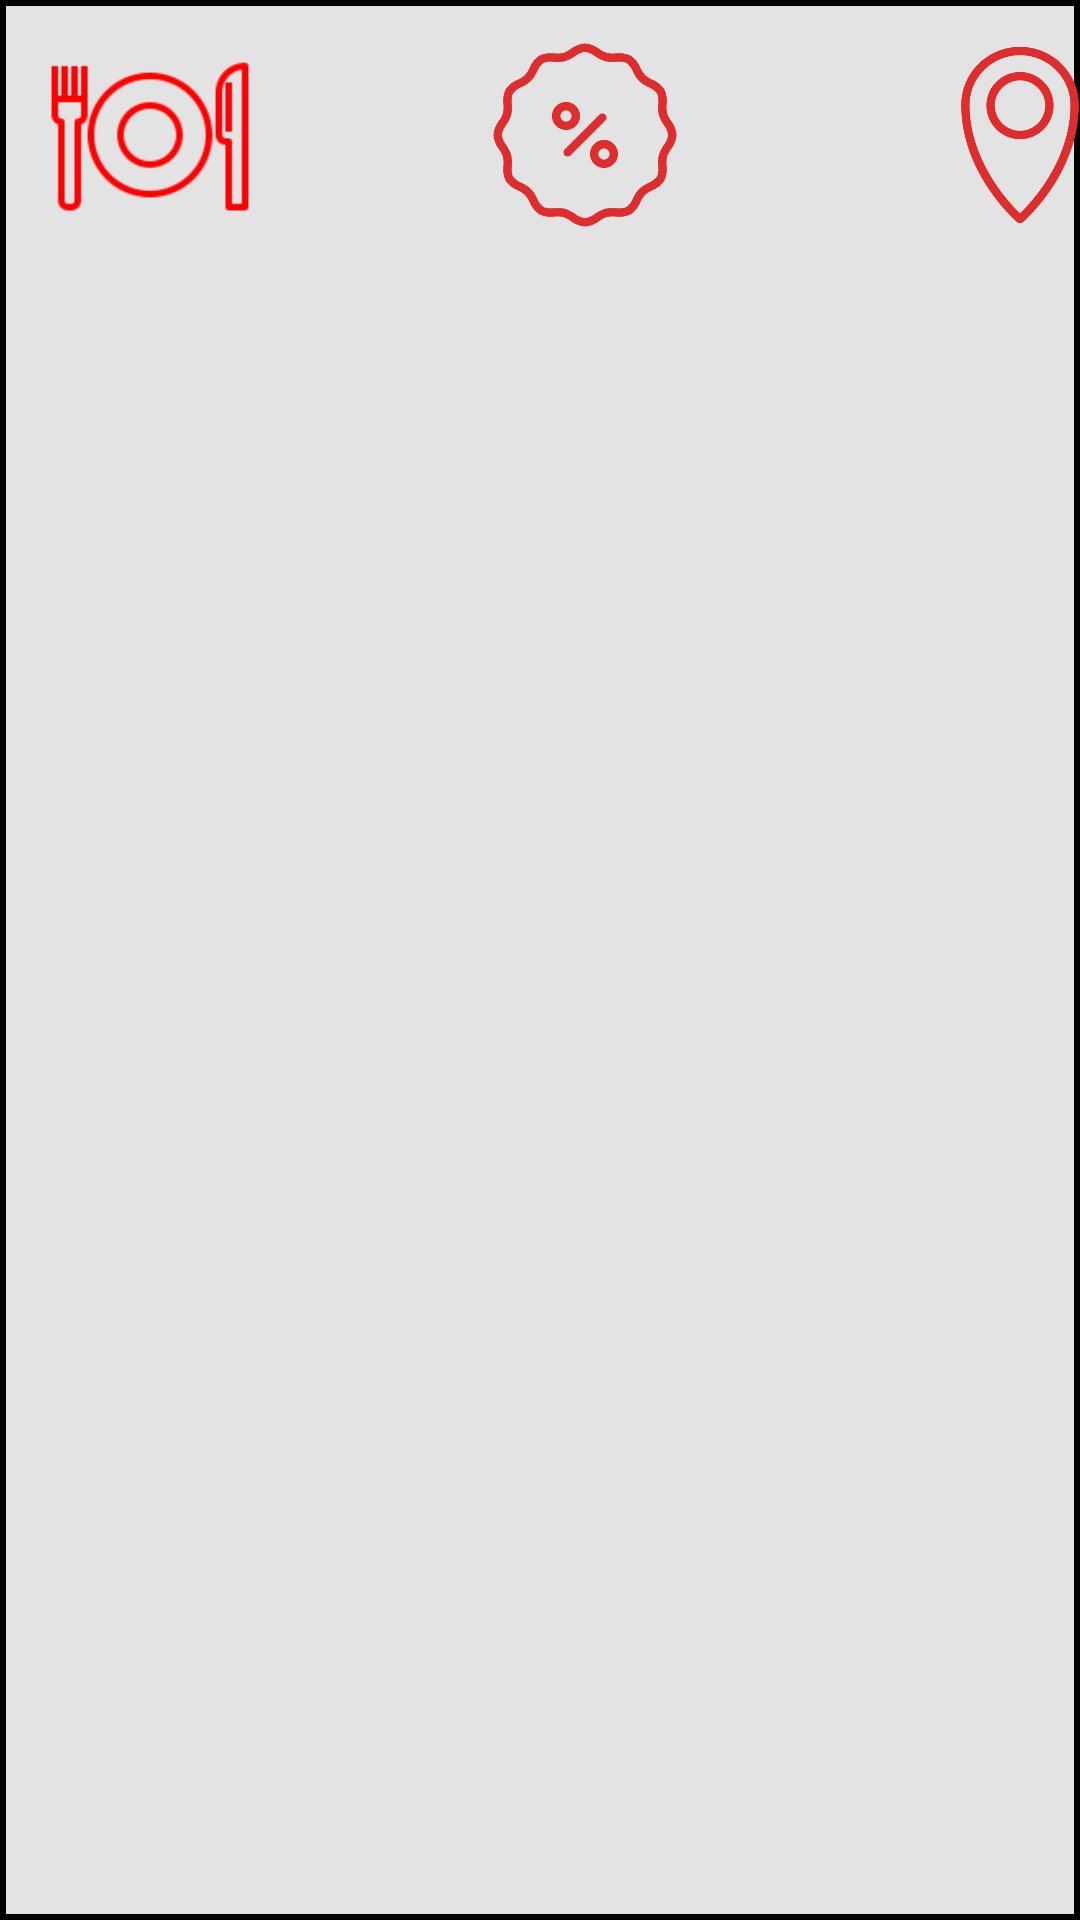

Where to tap for icons on this 1080×1920 app screen, as [x,y]:
discount: [585,135]
food: [150,136]
